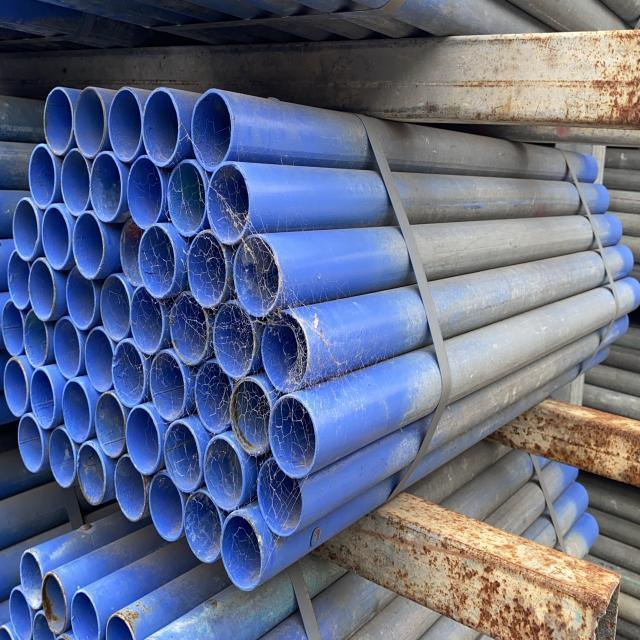pipe: (268, 390, 319, 481), (229, 235, 282, 320), (136, 85, 189, 168), (255, 455, 303, 537), (188, 88, 233, 175), (211, 298, 257, 379), (202, 435, 251, 510), (204, 162, 249, 243), (182, 479, 224, 565), (186, 227, 231, 307), (227, 377, 270, 456), (263, 314, 310, 386), (221, 514, 266, 589), (125, 154, 168, 232), (135, 219, 179, 295), (164, 159, 207, 236), (168, 291, 208, 369), (194, 357, 234, 433), (147, 461, 183, 544), (161, 419, 201, 492), (64, 254, 101, 331), (105, 86, 141, 165), (148, 350, 188, 420), (27, 236, 59, 323), (110, 339, 149, 409), (124, 404, 161, 476), (129, 283, 165, 355), (71, 208, 107, 278), (113, 449, 146, 524), (57, 145, 90, 217), (89, 150, 121, 223), (92, 390, 123, 462), (41, 87, 73, 155), (28, 143, 61, 208), (73, 84, 103, 155), (59, 377, 93, 439), (75, 439, 108, 502), (100, 272, 130, 340), (26, 365, 58, 428), (85, 326, 115, 392), (45, 423, 76, 486), (39, 204, 69, 269), (51, 316, 81, 376), (18, 545, 45, 608), (19, 413, 47, 472), (39, 570, 67, 629), (6, 349, 29, 417), (21, 309, 48, 366), (120, 215, 143, 280), (12, 199, 35, 259), (8, 249, 30, 311), (70, 589, 97, 632), (10, 588, 30, 631), (6, 302, 23, 352), (105, 612, 125, 632)
